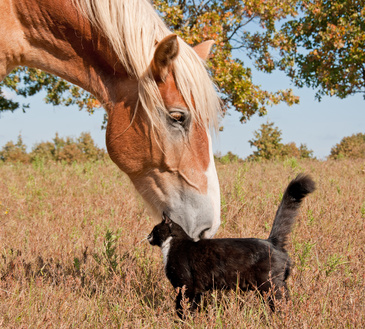Cat: (145, 176, 319, 304)
Horse: (3, 7, 217, 239)
